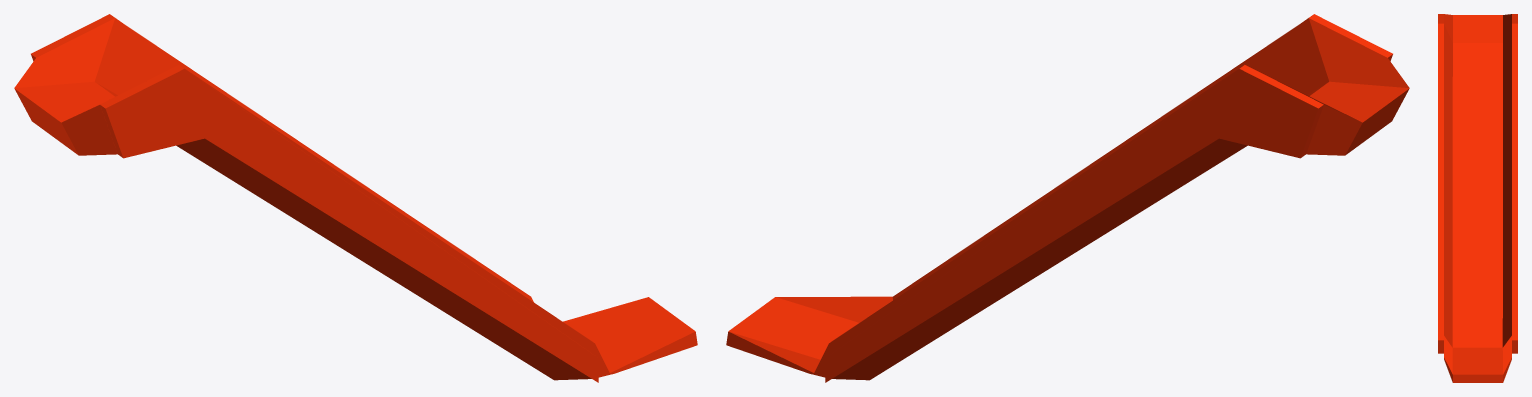
File: Slide.fbx
3 renders of one model, left to right at view 1: azimuth 30°, elevation 25°; view 2: azimuth 150°, elevation 25°; view 3: azimuth 270°, elevation 25°, orthographic. The views are drawn at different scales.
Parts seen in each view (by area): view 1: Cube; view 2: Cube; view 3: Cube.
Part boxes in pixels (x1,y1,x2,y2): Cube: (14,14,697,382); Cube: (726,14,1409,382); Cube: (1438,14,1517,382).
Bounding box in the file's own units: 1563 × 974 × 318.
